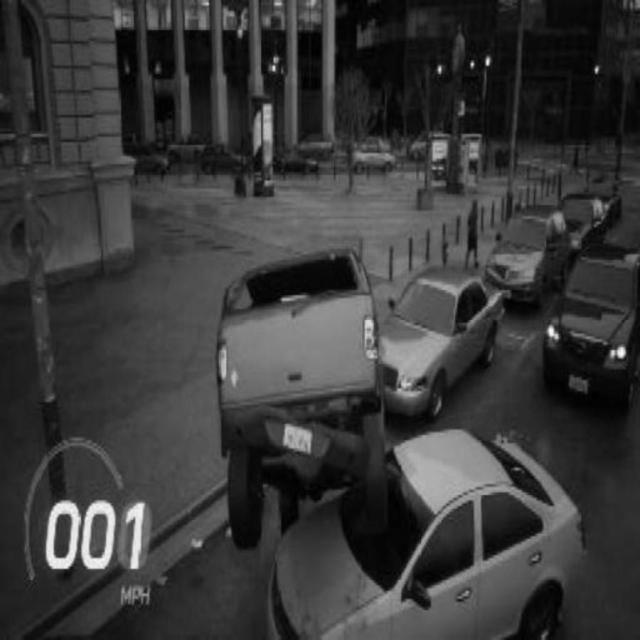accident: (216, 253, 582, 637)
vehicle: (384, 258, 508, 420), (539, 249, 640, 406), (485, 205, 573, 311)
